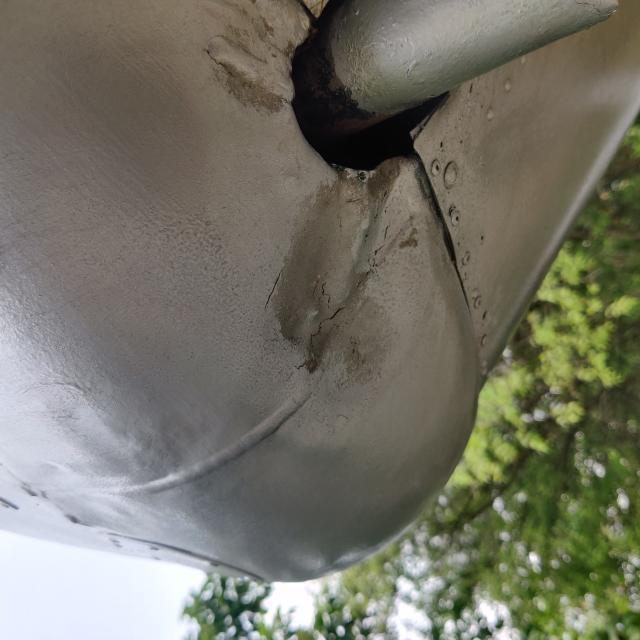Dent: (266, 159, 475, 386), (199, 0, 311, 112)
